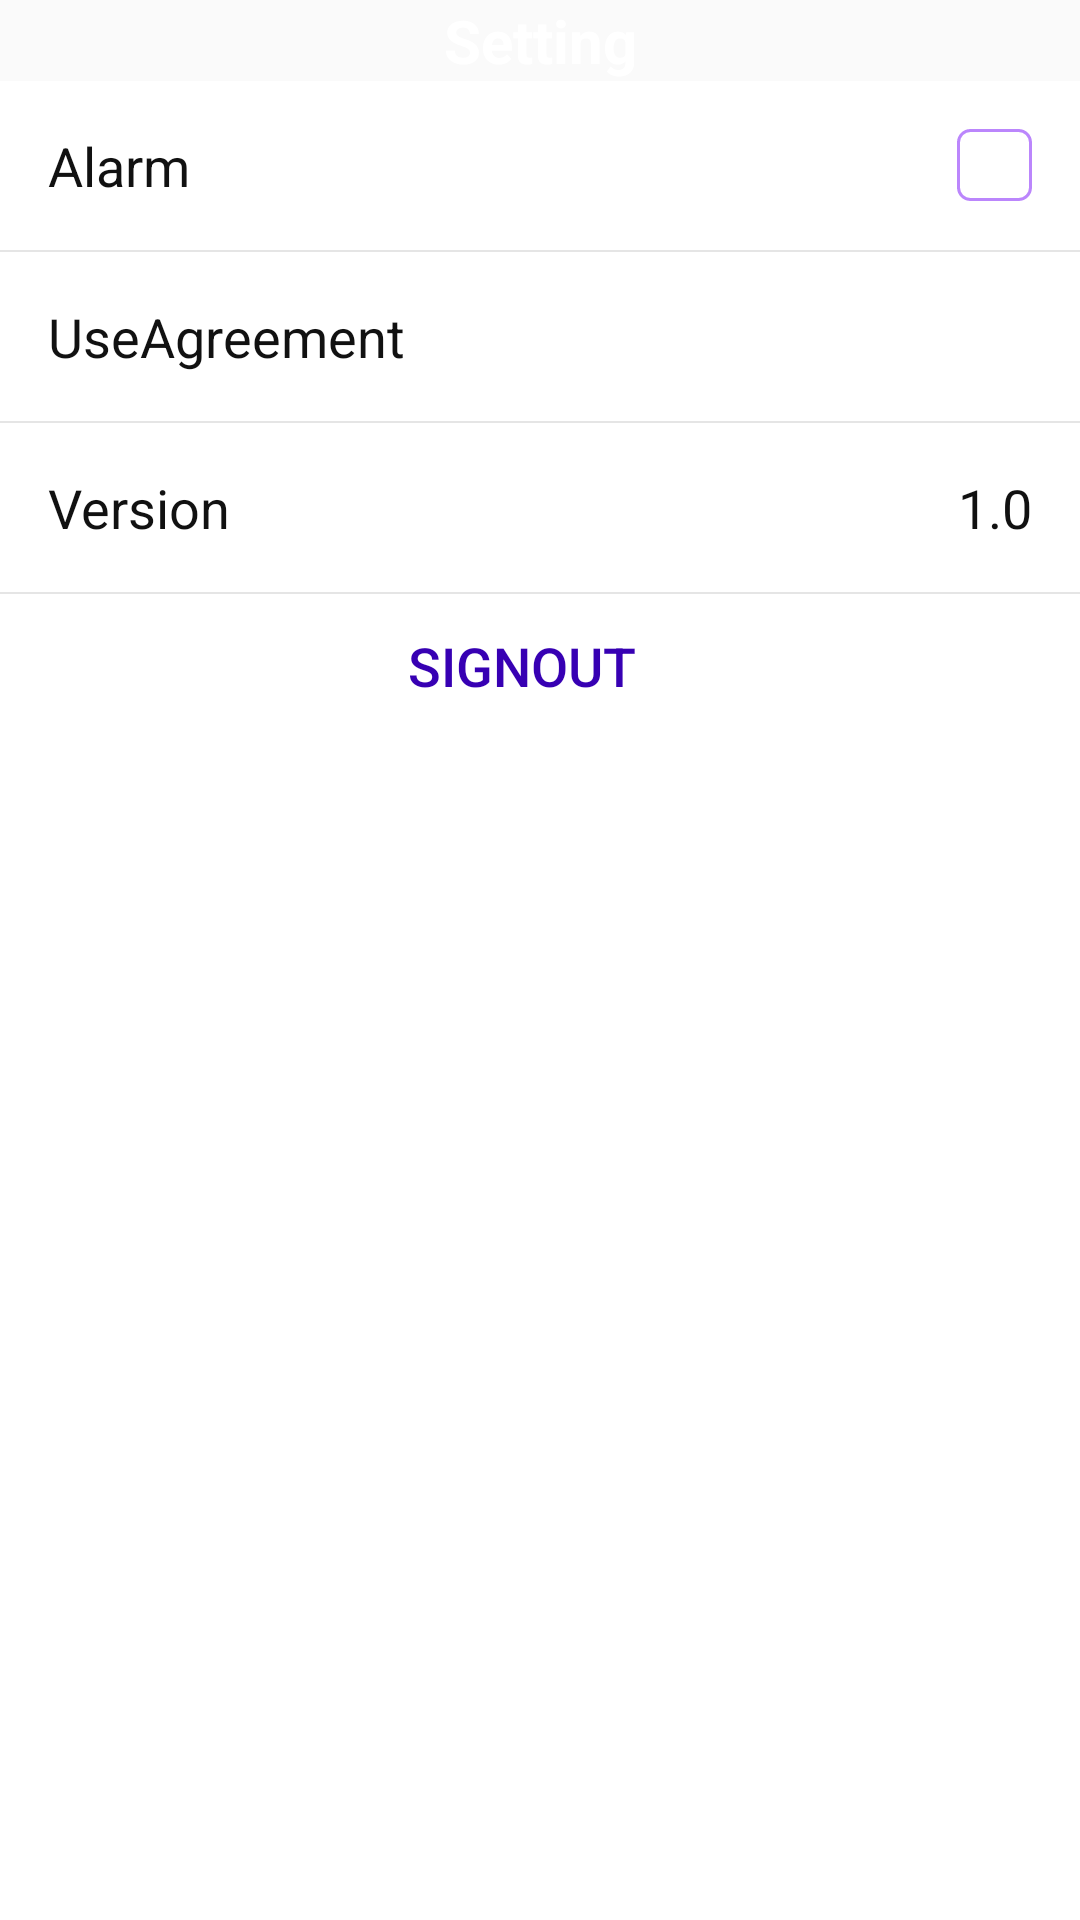

Point at icon controls on the screen. Image size 1080 x 1920, points as point (x, y).
checkbox: point (994, 165)
